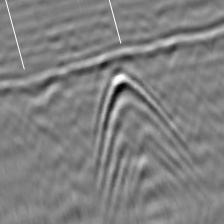Utility: (95, 62, 191, 190)
